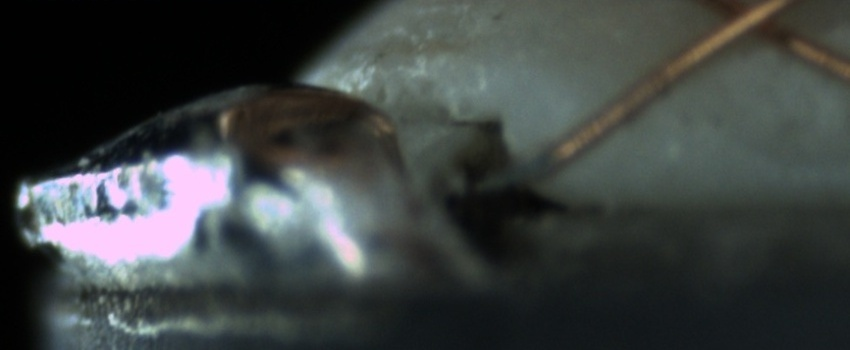CL: (695, 3, 823, 56)
TS: (464, 145, 558, 196)
